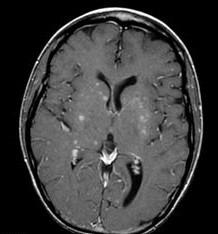Normal_Brain: (2, 1, 218, 234)
